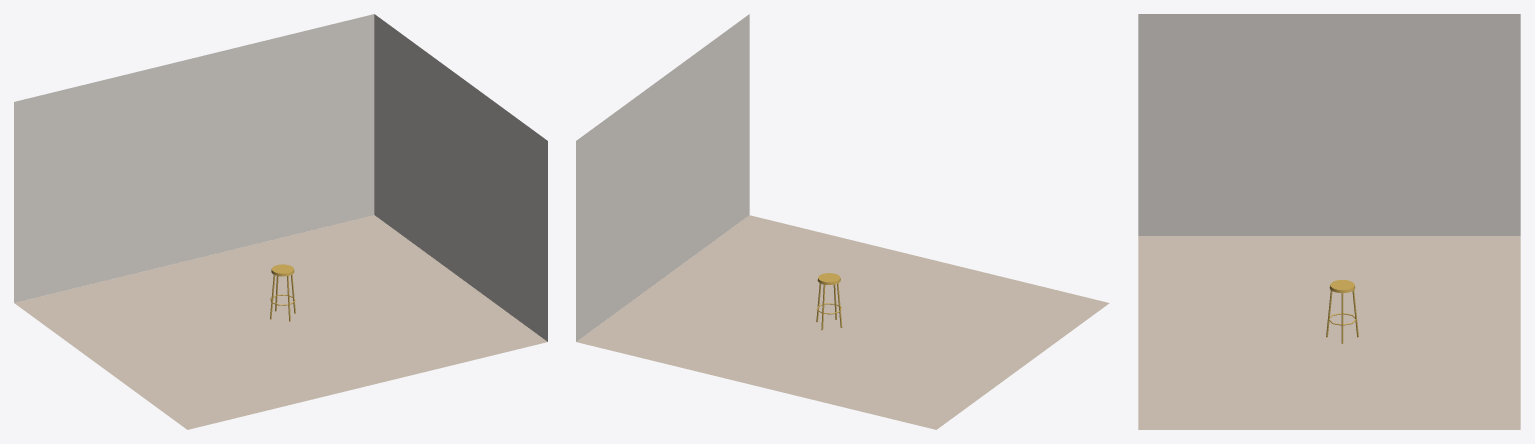
File: silla-taburete.glb
3 views of the same model, side by side, from view 1: azimuth 30°, elevation 25°; view 2: azimuth 150°, elevation 25°; view 3: azimuth 270°, elevation 25° (orthographic). The views are drawn at different scales.
Parts seen in each view (by area): view 1: sala, decoracion; view 2: sala, decoracion; view 3: sala, decoracion.
Part boxes in pixels (x1,y1,x2,y2): sala: [14, 14, 547, 429]; decoracion: [270, 264, 295, 321]; sala: [576, 14, 1109, 429]; decoracion: [816, 273, 842, 330]; sala: [1138, 14, 1520, 429]; decoracion: [1326, 280, 1358, 343].
Bounding box in the file's own units: 6 × 3.2 × 5.
